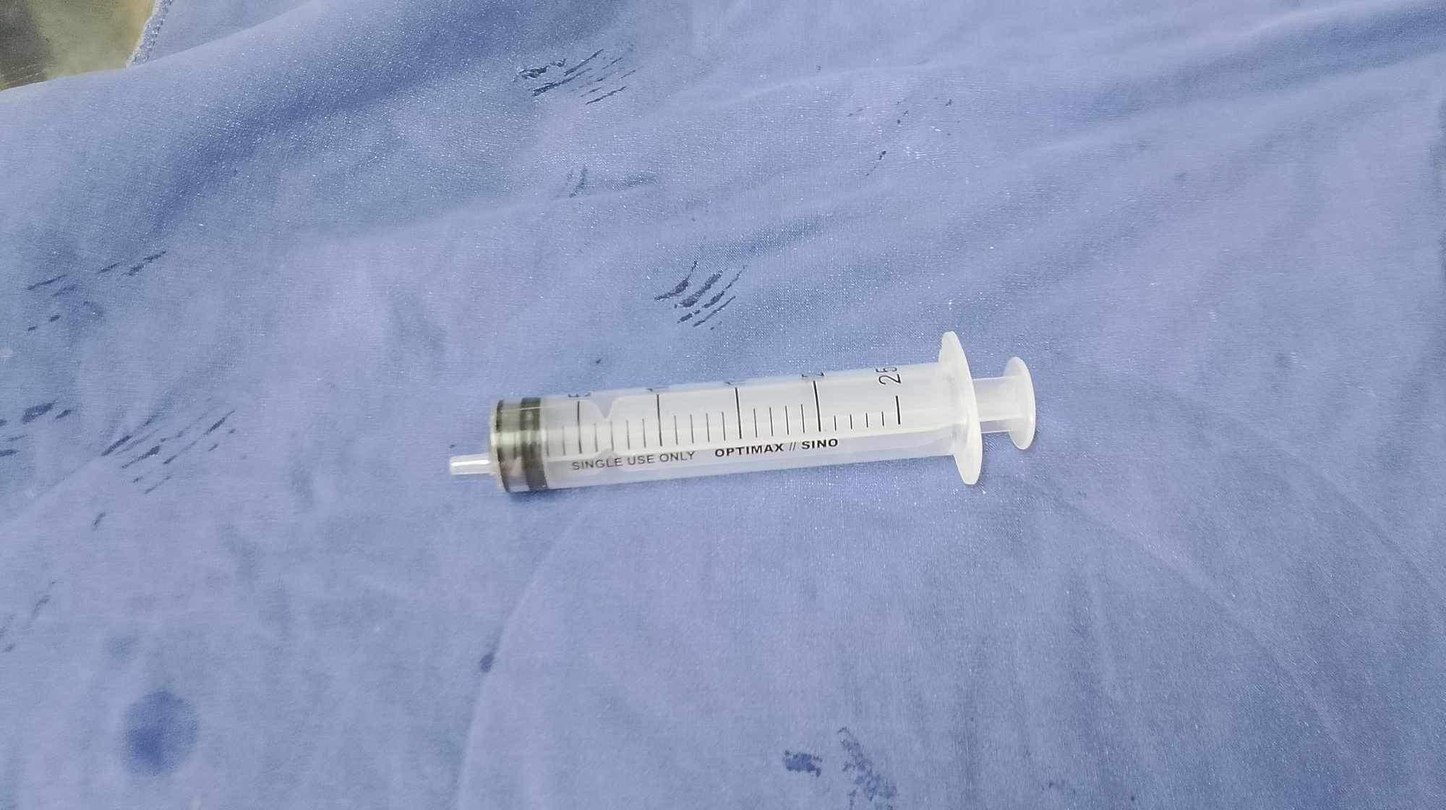Sharps: (448, 328, 1038, 496)
